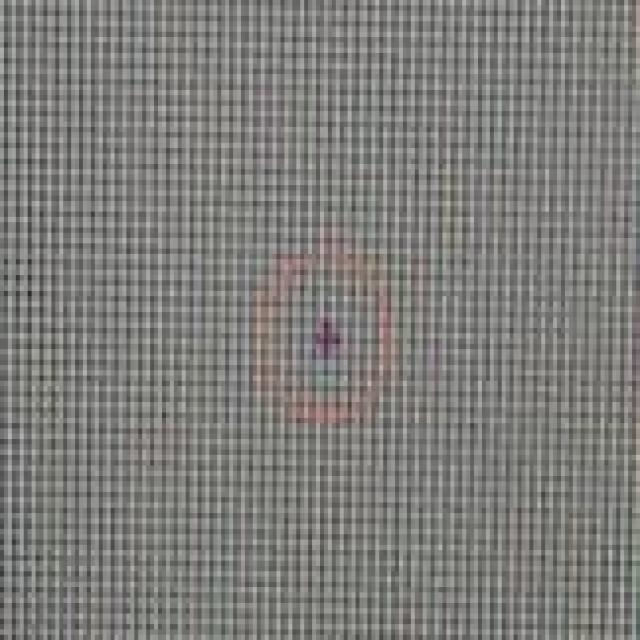dead_pixel: (307, 304, 342, 370)
